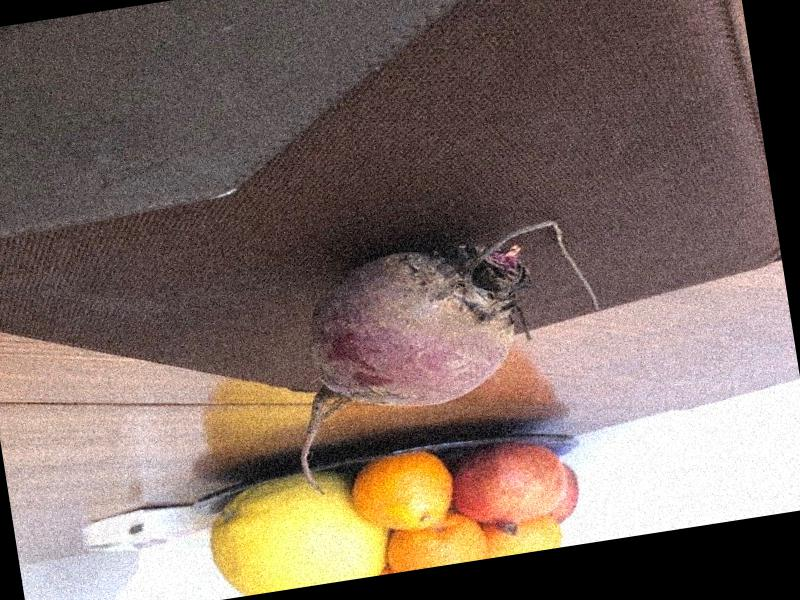Beet: (268, 214, 622, 499)
